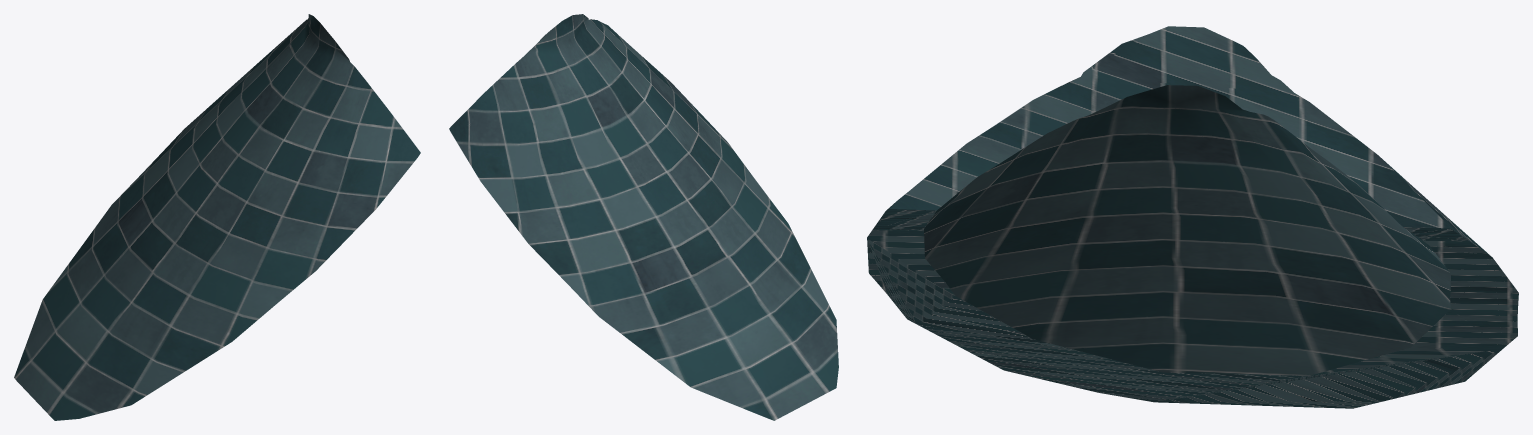
3 renders of one model, left to right at view 1: azimuth 30°, elevation 25°; view 2: azimuth 150°, elevation 25°; view 3: azimuth 270°, elevation 25°, orthographic. The views are drawn at different scales.
Parts seen in each view (by area): view 1: Cylinder_cell.006; view 2: Cylinder_cell.006; view 3: Cylinder_cell.006.
Part boxes in pixels (x1=…): Cylinder_cell.006: x1=14, y1=14, x2=420, y2=420; Cylinder_cell.006: x1=449, y1=14, x2=838, y2=420; Cylinder_cell.006: x1=867, y1=26, x2=1518, y2=408.
Size of the model in its own units: 0.8749 by 0.8411 by 0.7909.
1 material, 1 textured.
